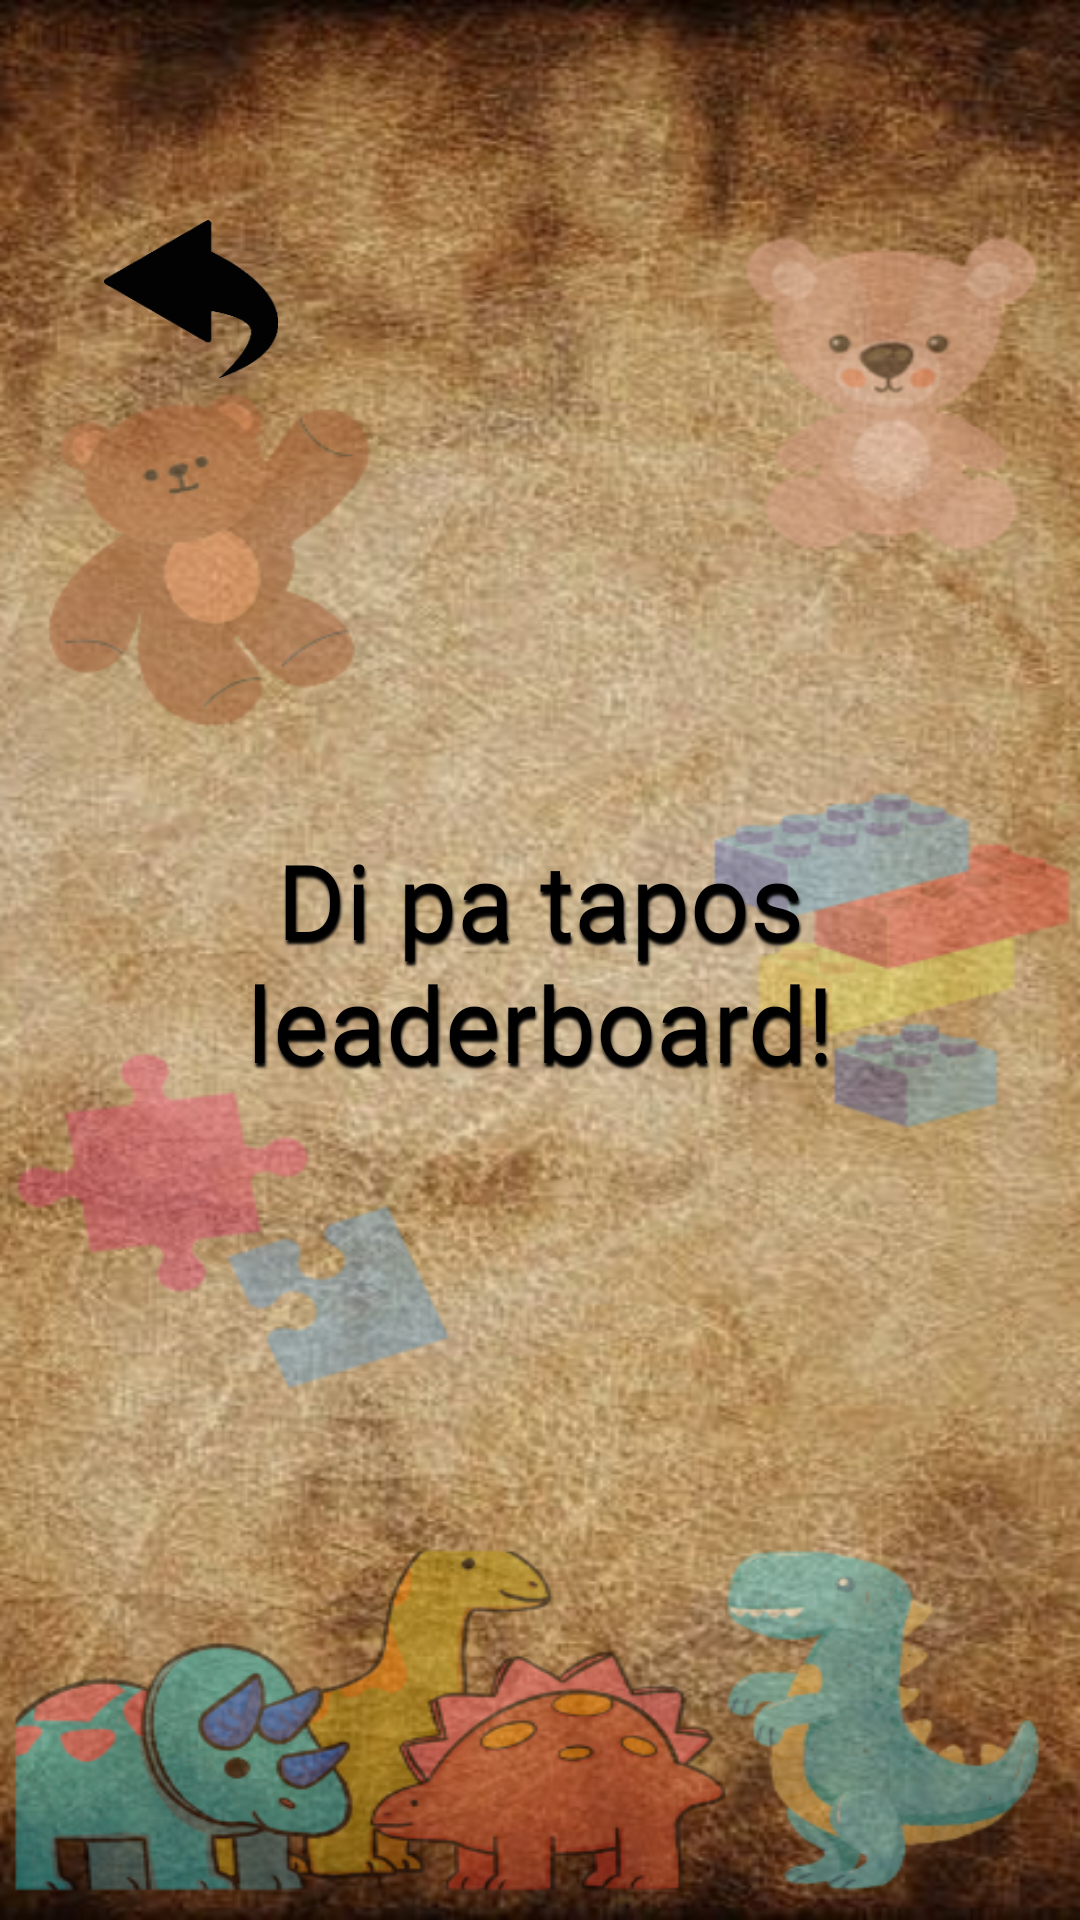

Screen size 1080w x 1920h. Icon name, then its center in pixels as (x,y):
back: (191,299)
